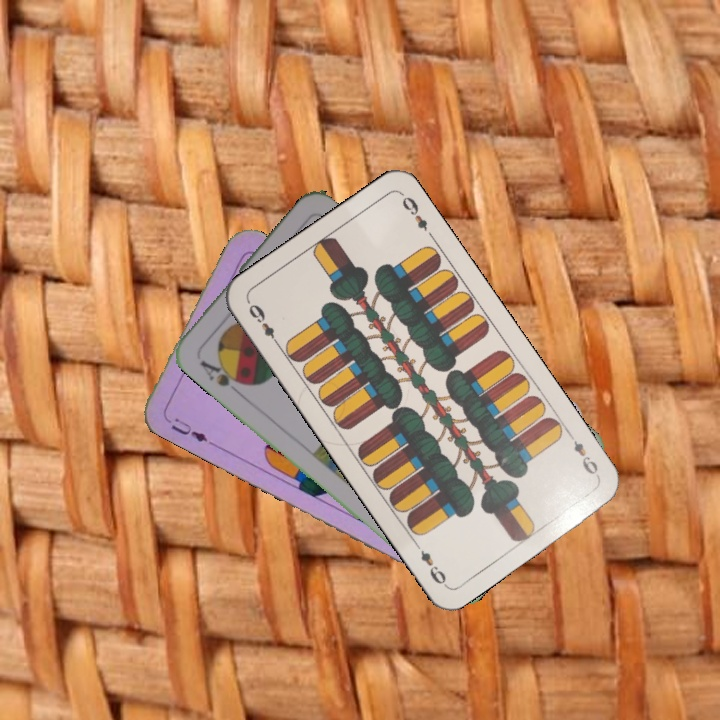E9: (243, 298, 283, 350), (564, 429, 603, 481)
EU: (166, 413, 210, 445)
SA: (196, 355, 247, 396)
